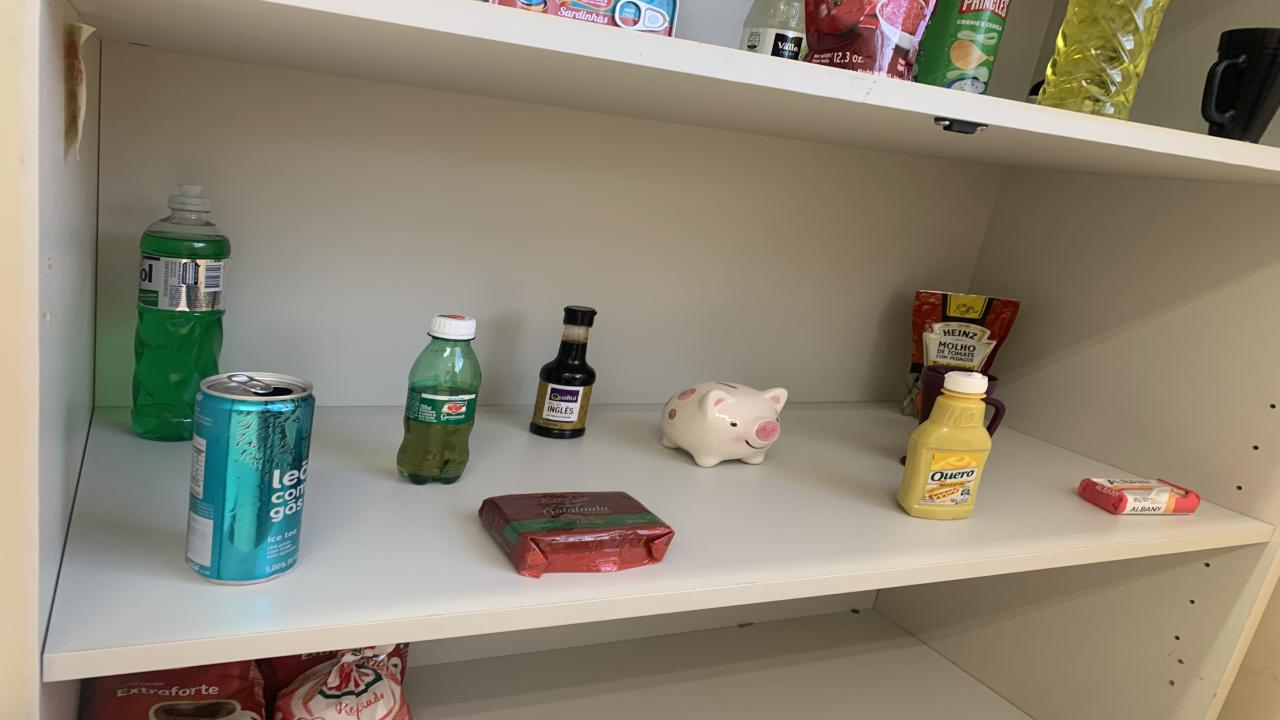Detergent-Cleanup_Items: (130, 186, 230, 441), (1038, 0, 1168, 120)
English_Sauce-Pantry_Items: (530, 308, 595, 439)
Guarana-Drinks: (398, 315, 482, 486)
Guava-Snacks: (478, 491, 675, 578)
Mustard-Pantry_Items: (898, 371, 992, 519), (200, 336, 202, 341)
Pig_Safe-Miscellaneous: (660, 382, 788, 467)
Pringles-Snacks: (912, 0, 1010, 94)
Soap-Cleanup_Items: (1078, 478, 1200, 514)
Soda-Drinks: (740, 0, 808, 60), (745, 0, 760, 24)
Tea-Drinks: (185, 371, 315, 585)
Tomato_Sauce-Pantry_Items: (902, 291, 1020, 414), (805, 0, 935, 81)
Tuna_Can-Pantry_Items: (495, 0, 678, 36)
